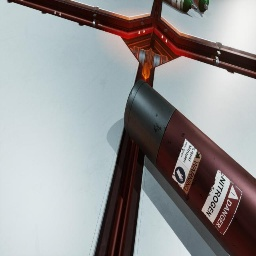0: (162, 0, 198, 12), (194, 0, 209, 12)
NitrogenTank ,: (124, 79, 256, 256)
